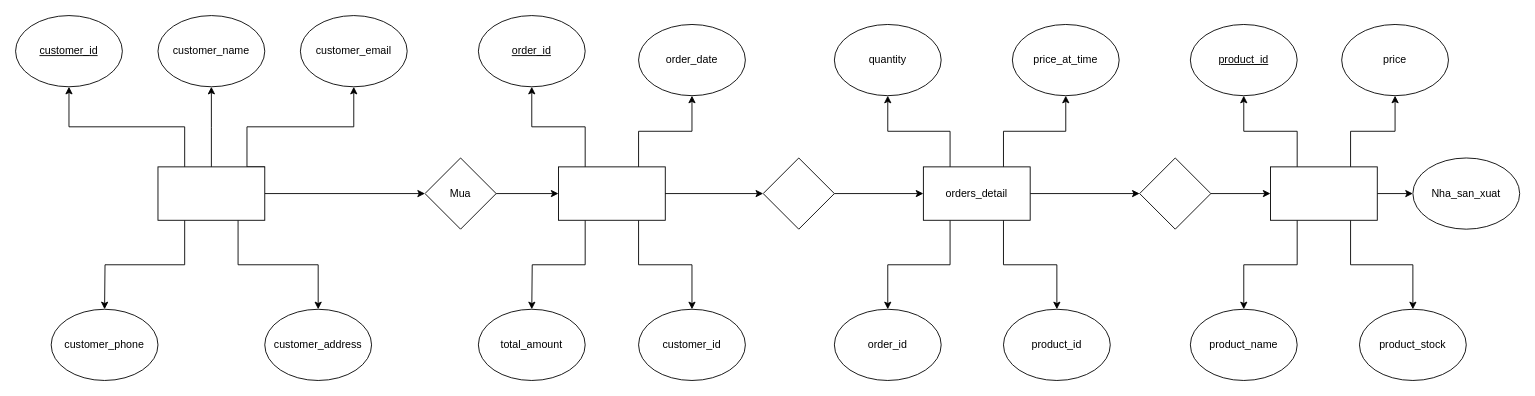
Image size: 1535x396. Some labels were removed from this diagram. The shapes that lost their labels are listed below. From the top down, each one's box as (x1, y1, x2, y2) in pixels, then its label:
(157, 166, 265, 220): customers
(558, 166, 665, 220): orders
(762, 157, 834, 229): có
(1139, 157, 1211, 229): Gồm
(1270, 166, 1377, 220): products
